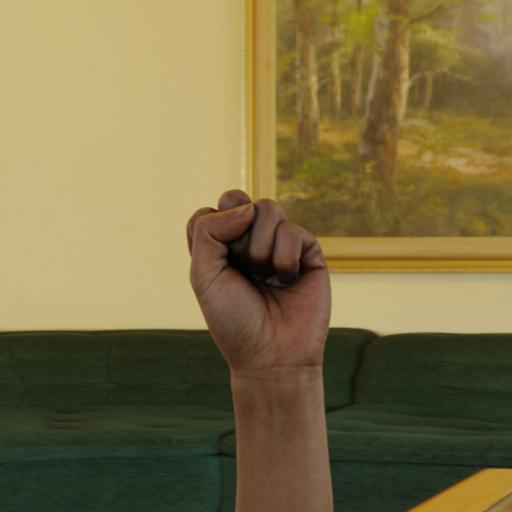S: (170, 169, 354, 512)
